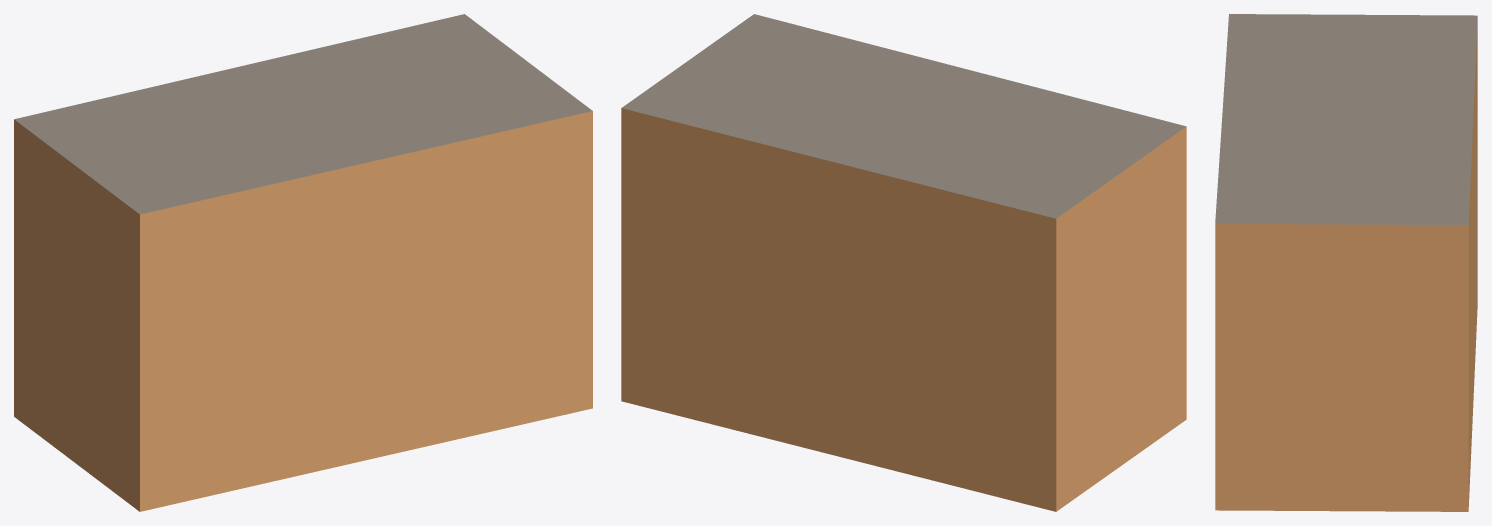
3 renders of one model, left to right at view 1: azimuth 30°, elevation 25°; view 2: azimuth 150°, elevation 25°; view 3: azimuth 270°, elevation 25°, orthographic. The views are drawn at different scales.
Visible parts, largest first — view 1: element.005; view 2: element.005; view 3: element.005.
Part boxes in pixels (<box>): element.005: <box>14,14,592,511</box>; element.005: <box>621,14,1186,511</box>; element.005: <box>1215,14,1477,511</box>.
Size of the model in its own units: 12.08 by 7.64 by 6.35.
